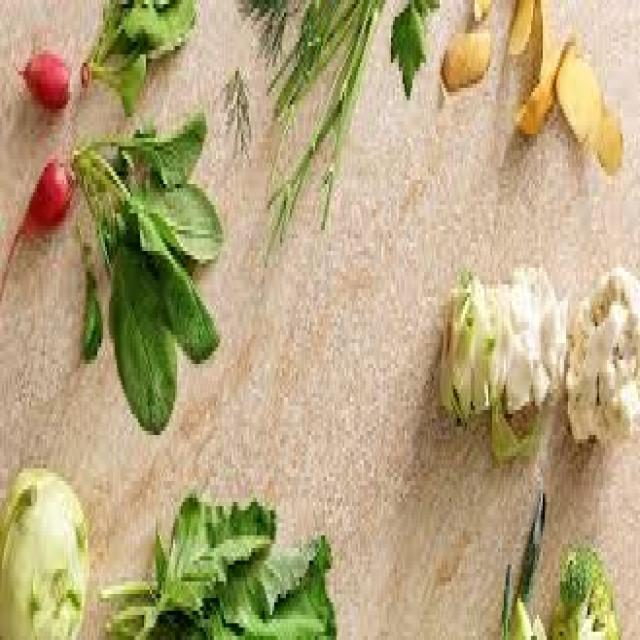organic waste: (68, 121, 222, 427), (239, 0, 387, 251), (97, 485, 337, 636), (438, 259, 566, 460), (0, 460, 88, 636), (75, 0, 198, 121), (107, 238, 177, 435), (564, 264, 638, 448), (2, 150, 72, 310), (498, 485, 547, 636), (548, 540, 614, 636), (8, 29, 72, 117), (510, 4, 552, 130), (553, 46, 599, 146), (438, 25, 490, 92), (389, 4, 428, 92), (222, 63, 249, 159), (592, 105, 620, 172), (505, 0, 531, 54), (471, 0, 492, 17)
